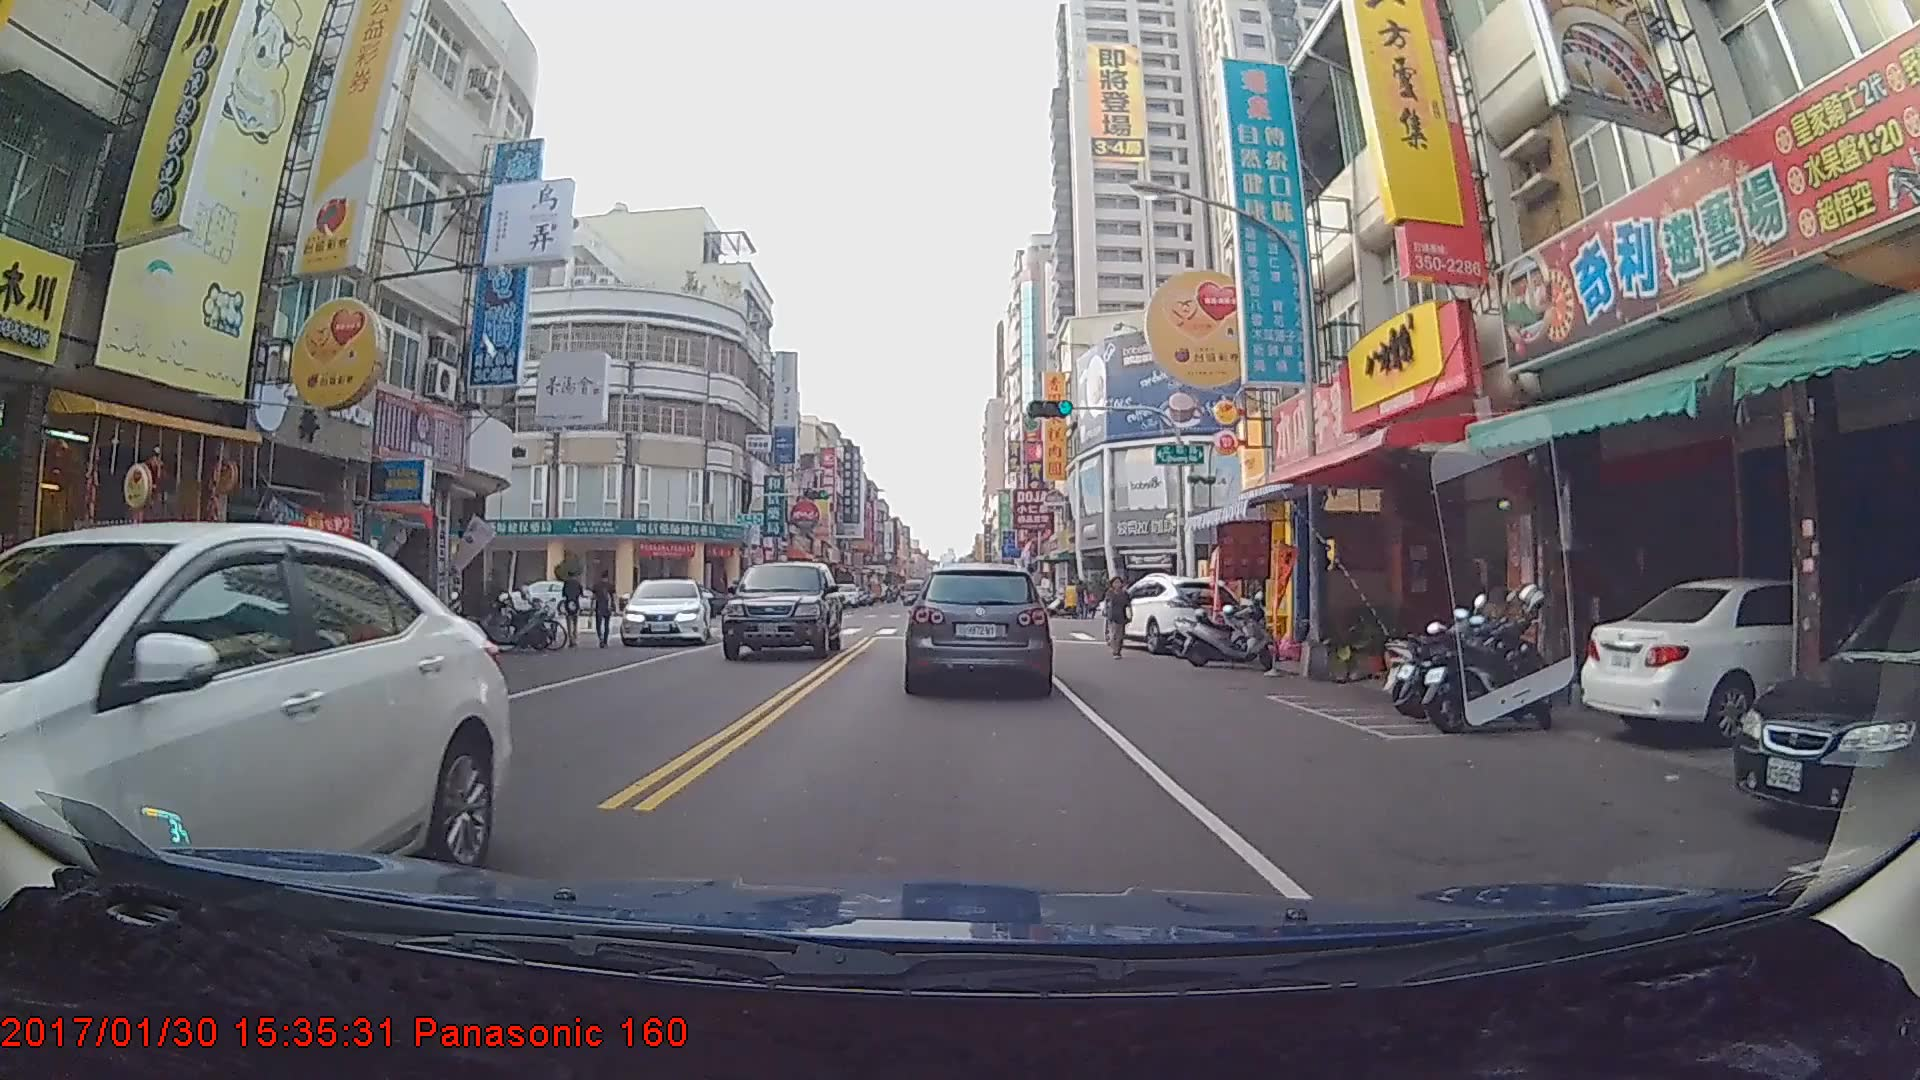pedestrian: (1101, 576, 1132, 658), (590, 568, 619, 643), (561, 570, 585, 648)
vehicle: (0, 517, 497, 972), (1575, 574, 1920, 742), (909, 562, 1049, 694), (723, 558, 842, 661), (1097, 573, 1248, 653), (619, 574, 709, 643), (902, 576, 928, 605)
